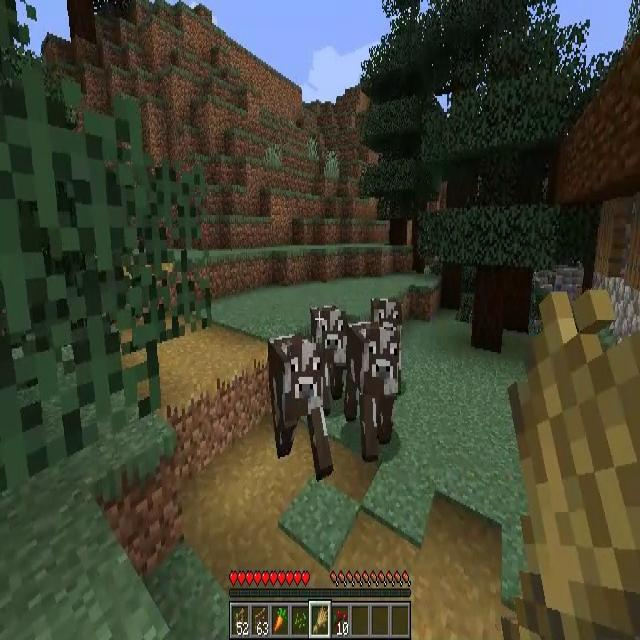cow: (267, 335, 334, 480), (344, 321, 400, 463), (309, 306, 348, 402), (371, 298, 402, 396)
